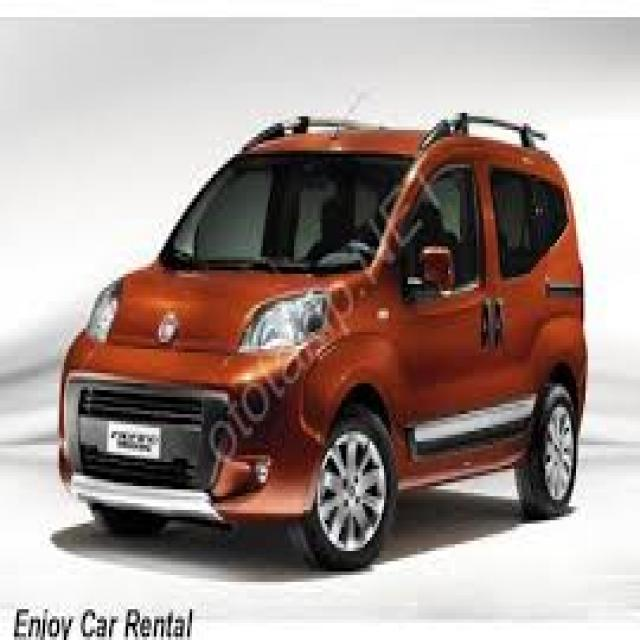Car: (56, 109, 589, 576)
